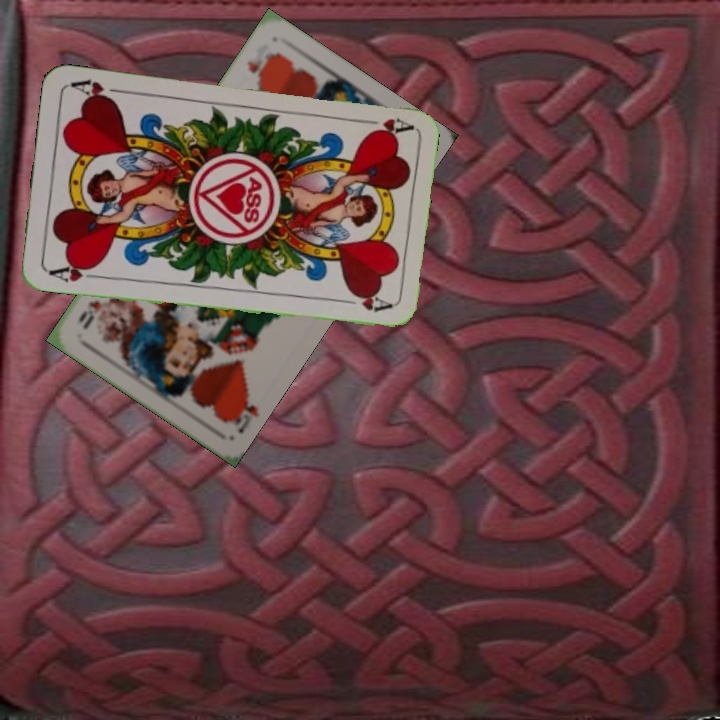HA: (44, 258, 103, 285), (355, 114, 414, 138)
HO: (222, 384, 261, 437), (243, 39, 280, 87)
